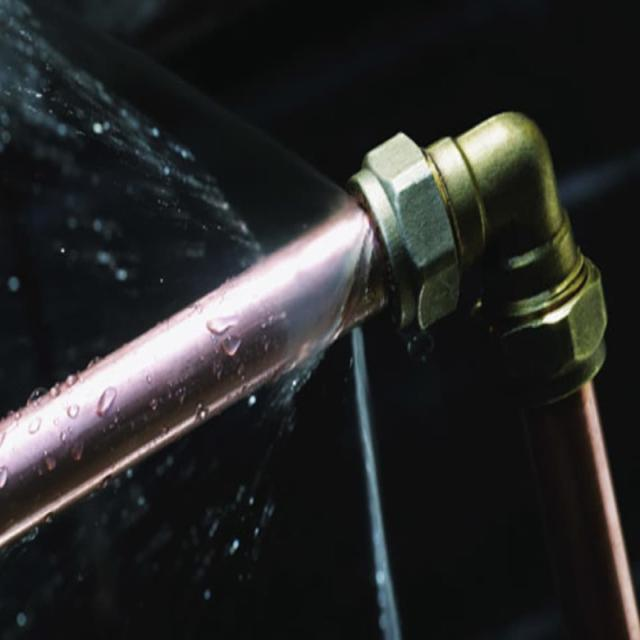leak: (349, 322, 406, 640)
